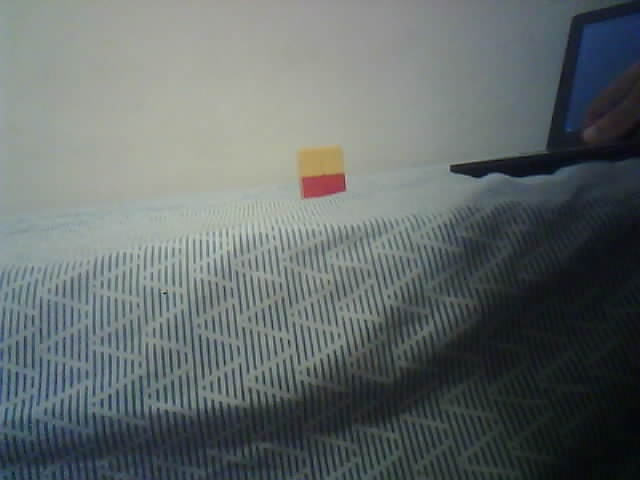lego: (296, 144, 347, 200)
